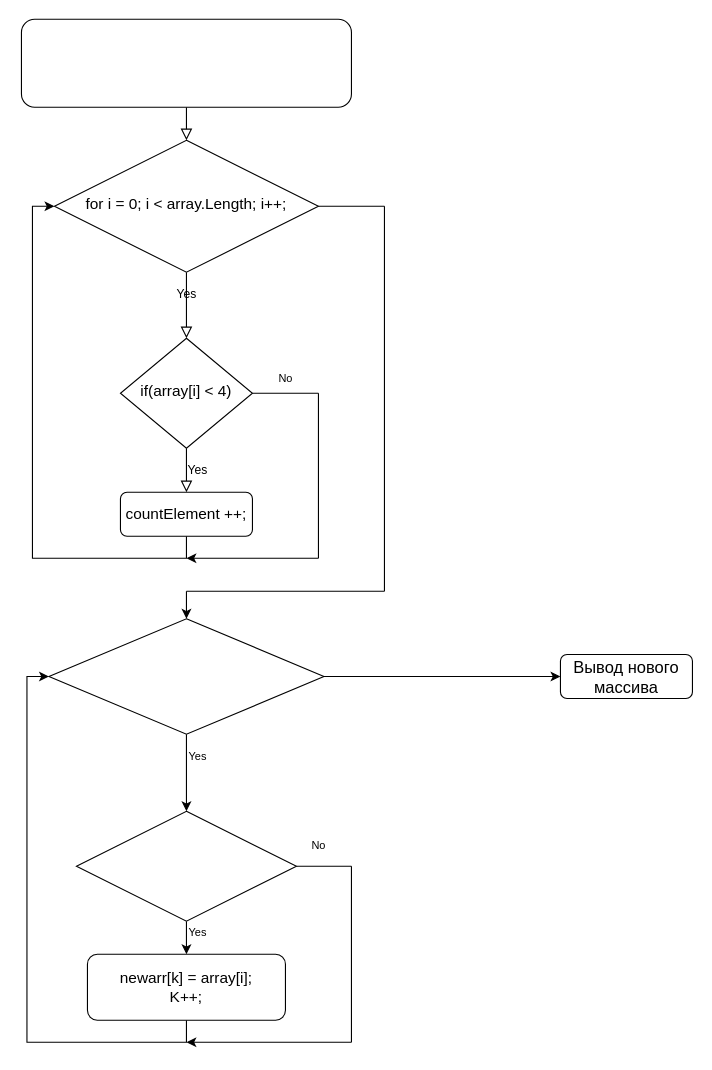
The diagram is 712 pixels wide and 1070 high, and some of its shapes have lost their labels. The box of each missing label's shape, as (x1, y1, x2, y2) in pixels:
for i =0; i < array.Length; i++;: (48, 618, 324, 734)
if (array[i] < 4): (75, 810, 296, 921)
string[] array = {"3548", "256", "5687"} int k = 0 int countElement = 0: (20, 18, 351, 107)
